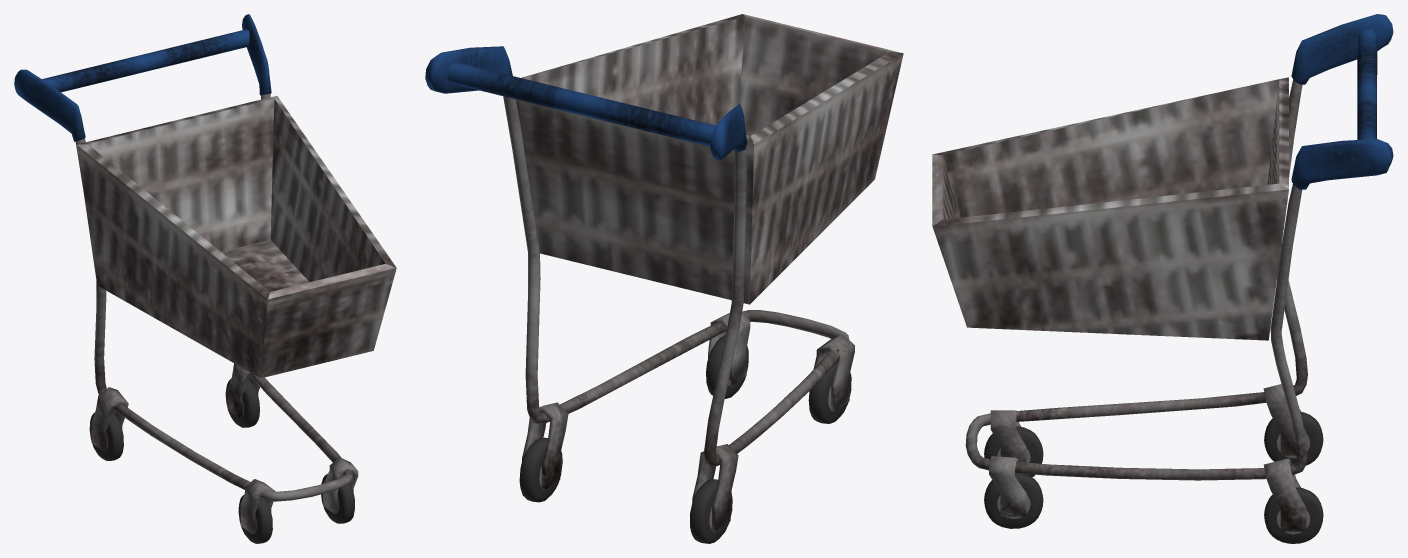
The model's file is lgu_cart.fbx.
3 renders of one model, left to right at view 1: azimuth 30°, elevation 25°; view 2: azimuth 150°, elevation 25°; view 3: azimuth 270°, elevation 25°, orthographic. The views are drawn at different scales.
Visible parts, largest first — view 1: lgu_cart; view 2: lgu_cart; view 3: lgu_cart.
Boxes of the visible parts, <box> form: lgu_cart: <box>14,14,396,543</box>; lgu_cart: <box>425,14,903,543</box>; lgu_cart: <box>932,14,1393,543</box>.
Size of the model in its own units: 615 by 925 by 903.
Materials: 2 (2 with a texture image).
